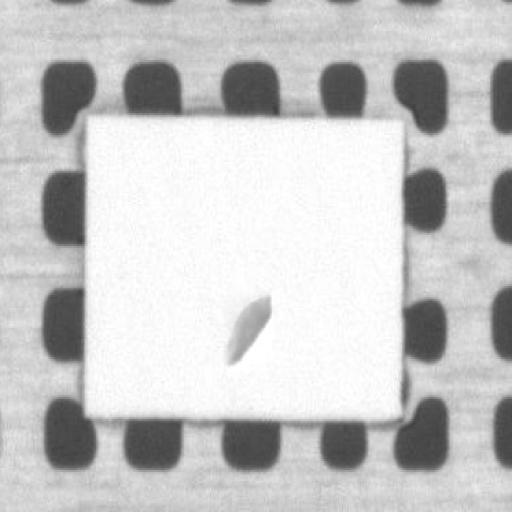DIE_INK: (292, 213, 364, 281)
